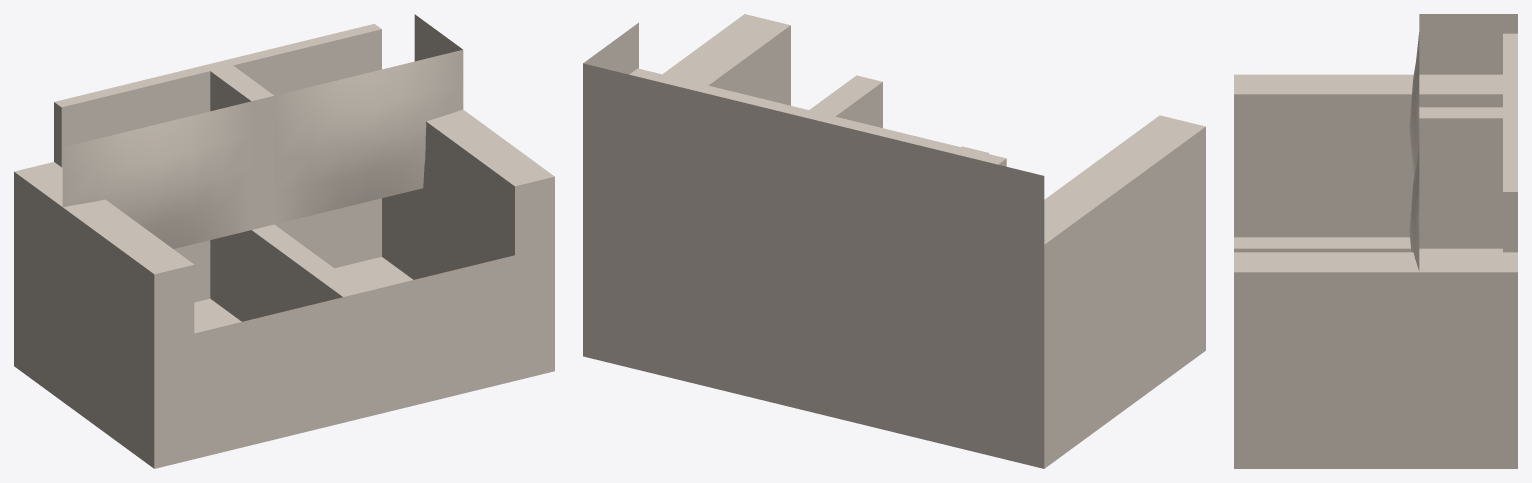
Rendered from loveseat.glb.
The picture shows the model from 3 angles, left to right: view 1: azimuth 30°, elevation 25°; view 2: azimuth 150°, elevation 25°; view 3: azimuth 270°, elevation 25°; orthographic projection. The views are drawn at different scales.
Size of the model in its own units: 1.4 by 0.85 by 0.85.
